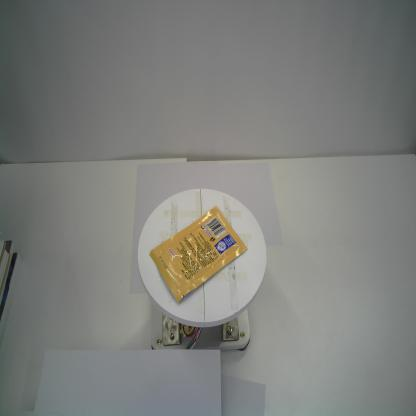Seasoner: (147, 203, 250, 307)
